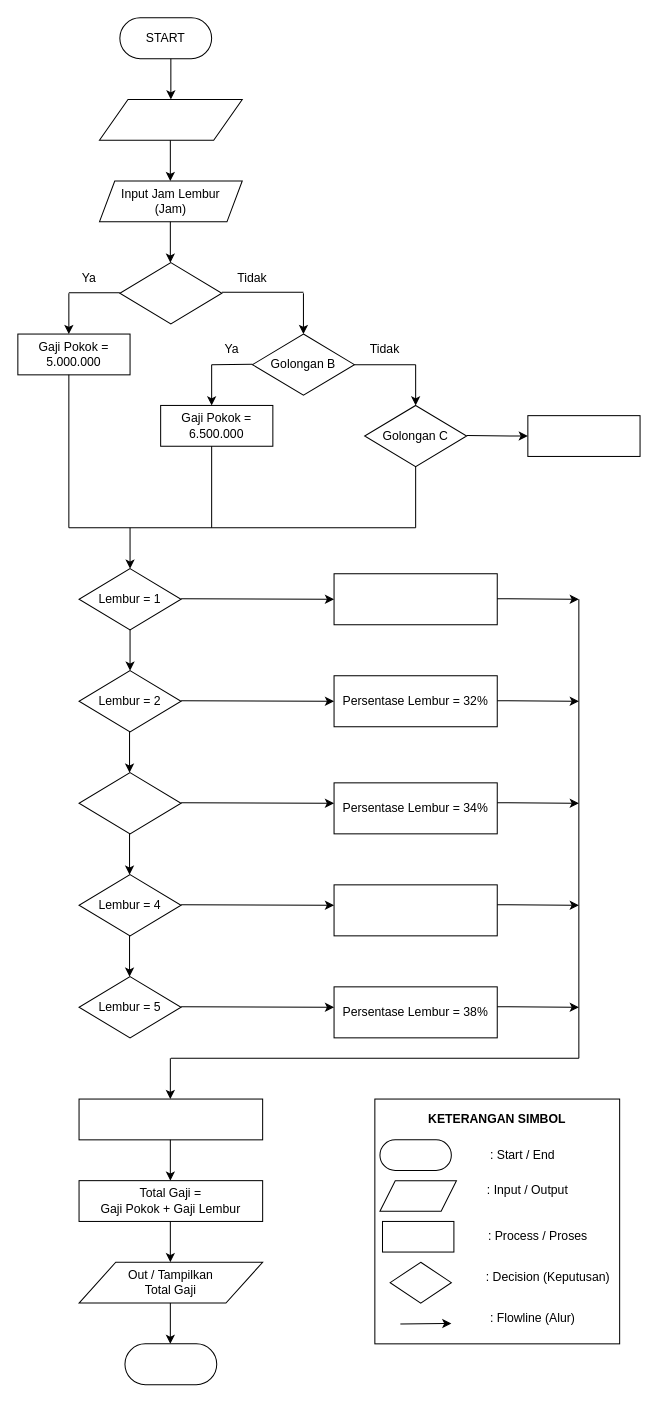
Image size: 658x1403. Some labels were removed from this diagram. The shapes that lost their labels are listed below. From the top down, each one's box as (x1, y1, x2, y2) in pixels, then its label:
(98, 98, 242, 140): Input Golongan (A/B/C)
(119, 262, 222, 324): Golongan A
(527, 415, 640, 456): Gaji Pokok = 9.500.000
(333, 573, 497, 625): Persentase Lembur = 30%
(78, 772, 181, 834): Lembur = 3
(333, 884, 497, 936): Persentase Lembur = 36%
(78, 1098, 263, 1140): Gaji Lembur = Persentase Lembur x Gaji Pokok
(124, 1343, 217, 1385): END
